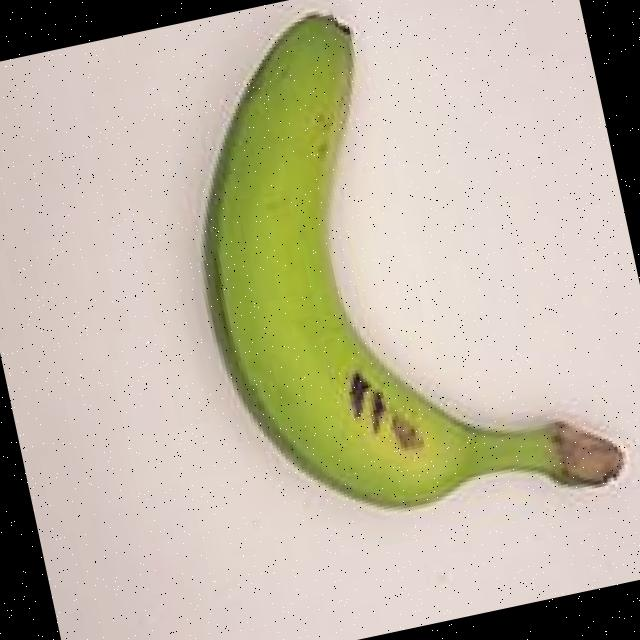Unripe: (117, 0, 640, 594)
